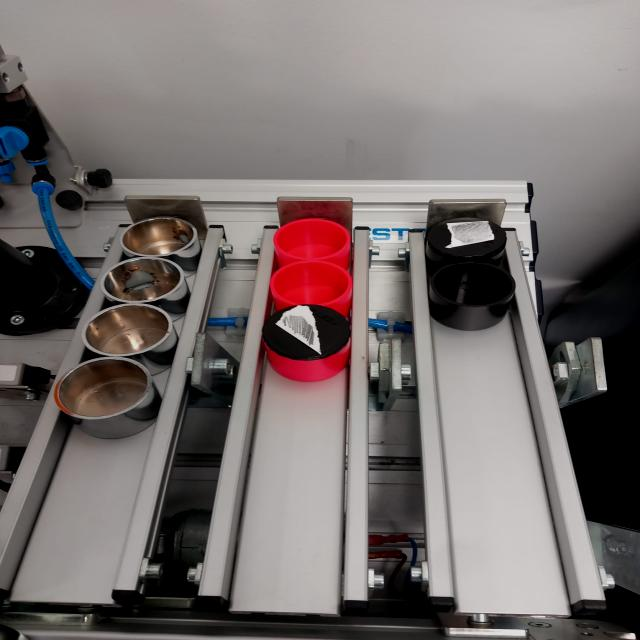NoLid: (53, 347, 159, 441), (427, 262, 522, 335), (90, 295, 191, 362), (103, 244, 201, 308), (264, 257, 370, 314), (134, 208, 214, 262), (276, 215, 352, 262)
